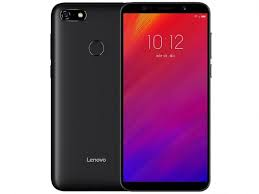lenovo: (118, 1, 215, 191), (45, 1, 120, 191)
